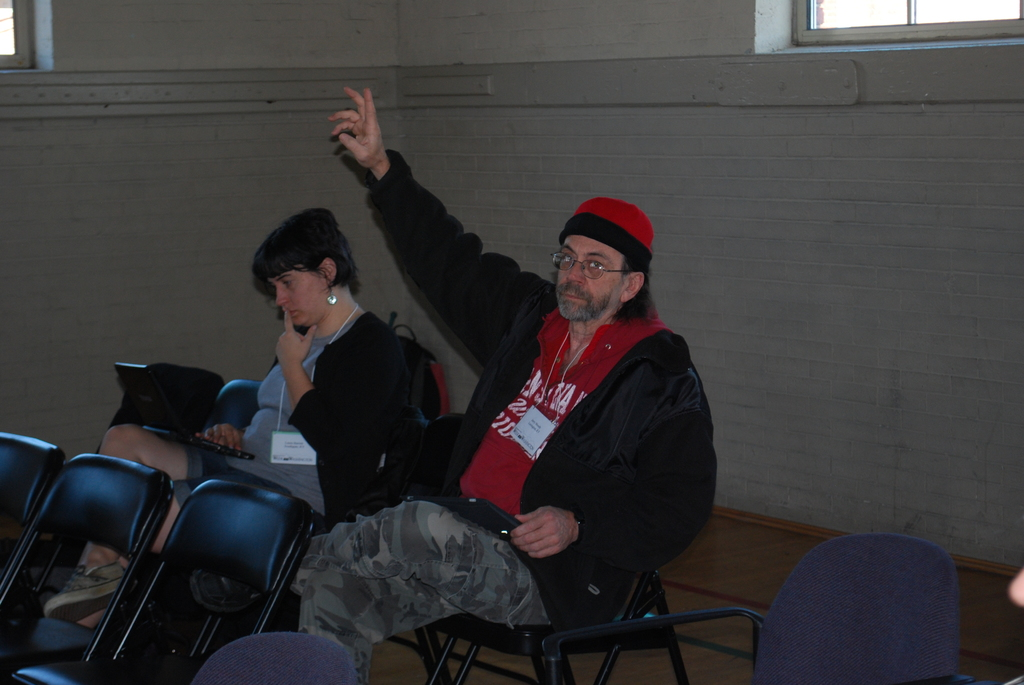Chair: (540, 534, 965, 684), (0, 482, 313, 684), (97, 371, 268, 448), (0, 433, 72, 577), (190, 627, 360, 684)
